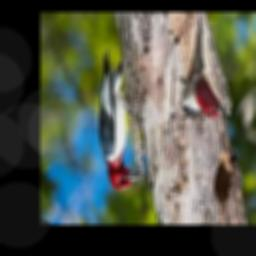Woodpecker: (98, 48, 142, 189), (180, 43, 225, 121)
